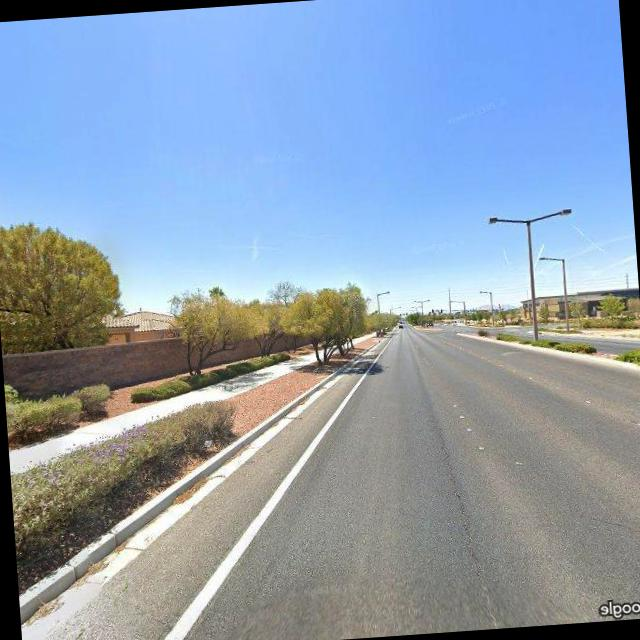crack: (434, 423, 484, 581)
